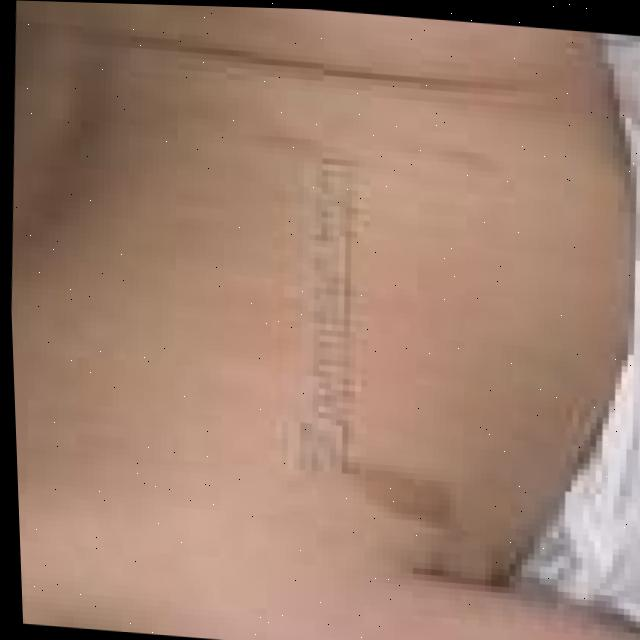Melasma: (344, 435, 459, 523)
